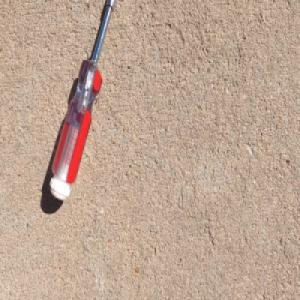Screwdriver: (49, 0, 117, 202)
